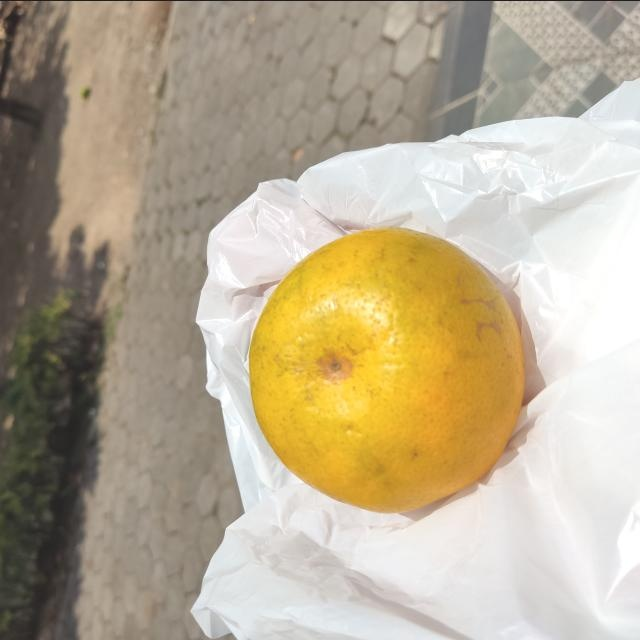agrume: (248, 225, 524, 515)
